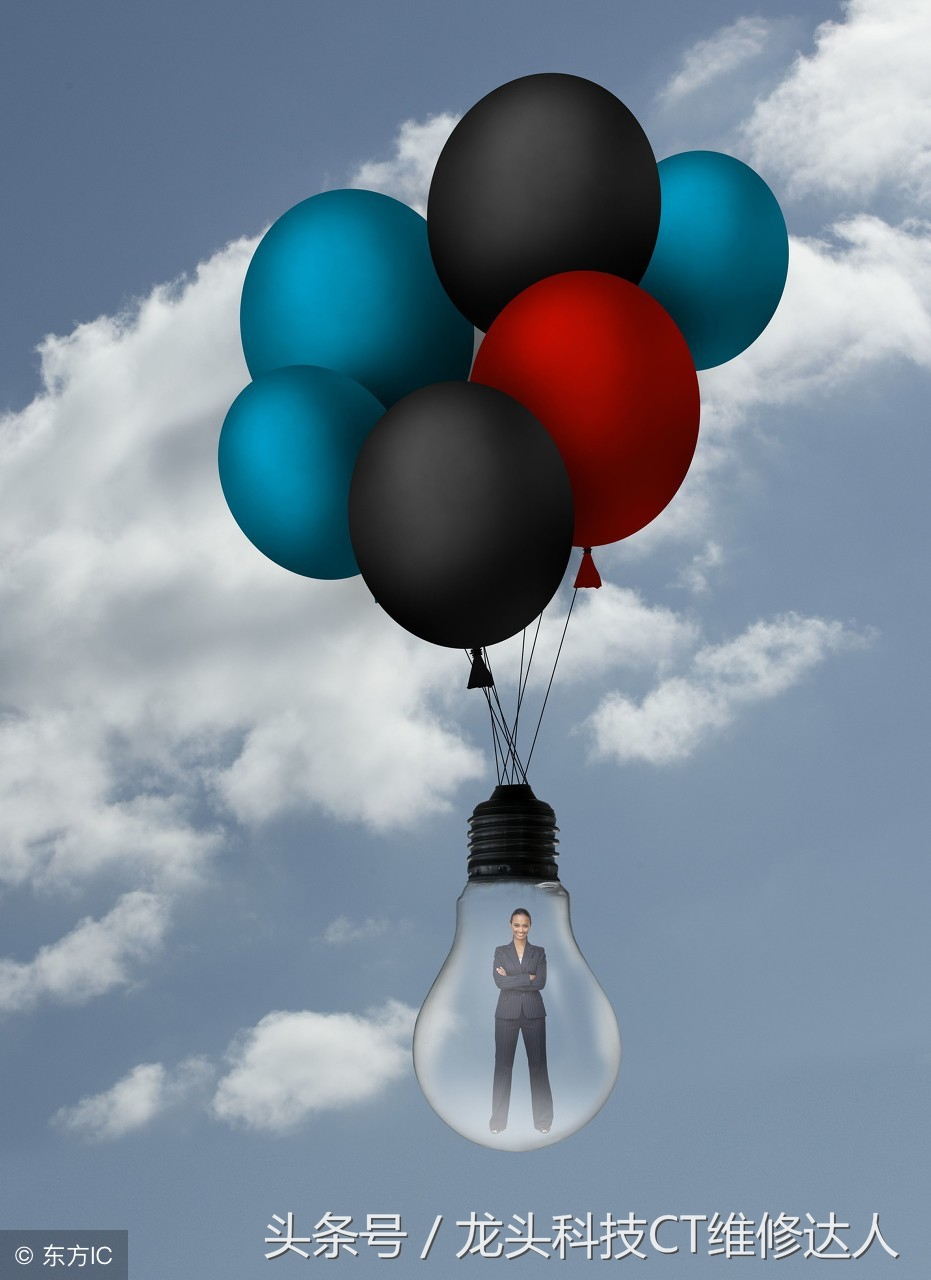balloon: (479, 265, 699, 540), (428, 73, 660, 329), (357, 385, 574, 642), (241, 187, 475, 408), (218, 364, 382, 583), (634, 149, 791, 373)
